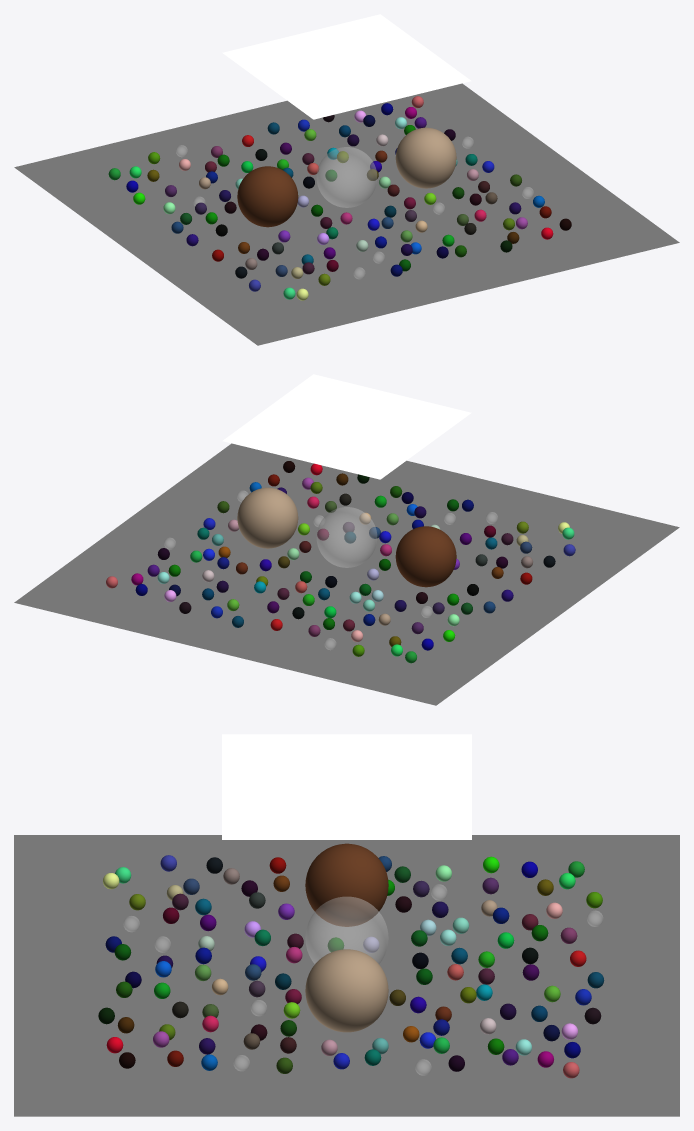
Rendered from WeekendSpheres.glb.
3 views of the same model, one above another, from view 1: azimuth 30°, elevation 25°; view 2: azimuth 150°, elevation 25°; view 3: azimuth 270°, elevation 25° (orthographic). The views are drawn at different scales.
Bounding box in the file's own units: 16 × 5 × 16.
Materials: 2 (2 with a texture image).
